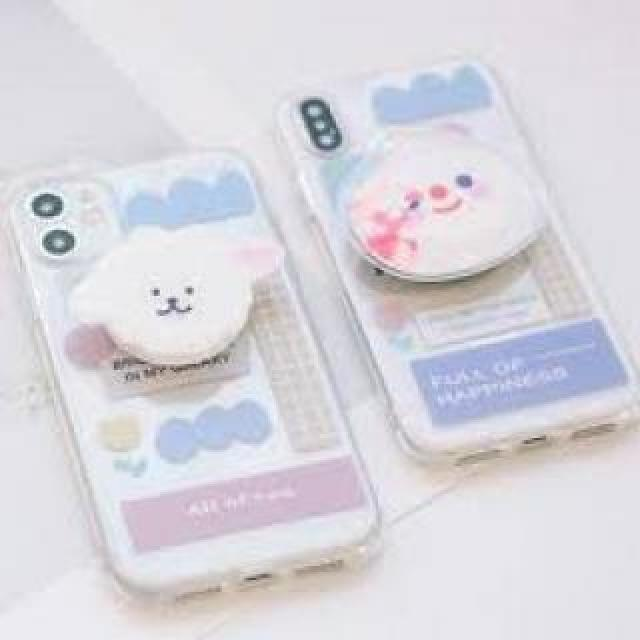smart phone: (3, 138, 314, 640), (272, 62, 624, 465)
